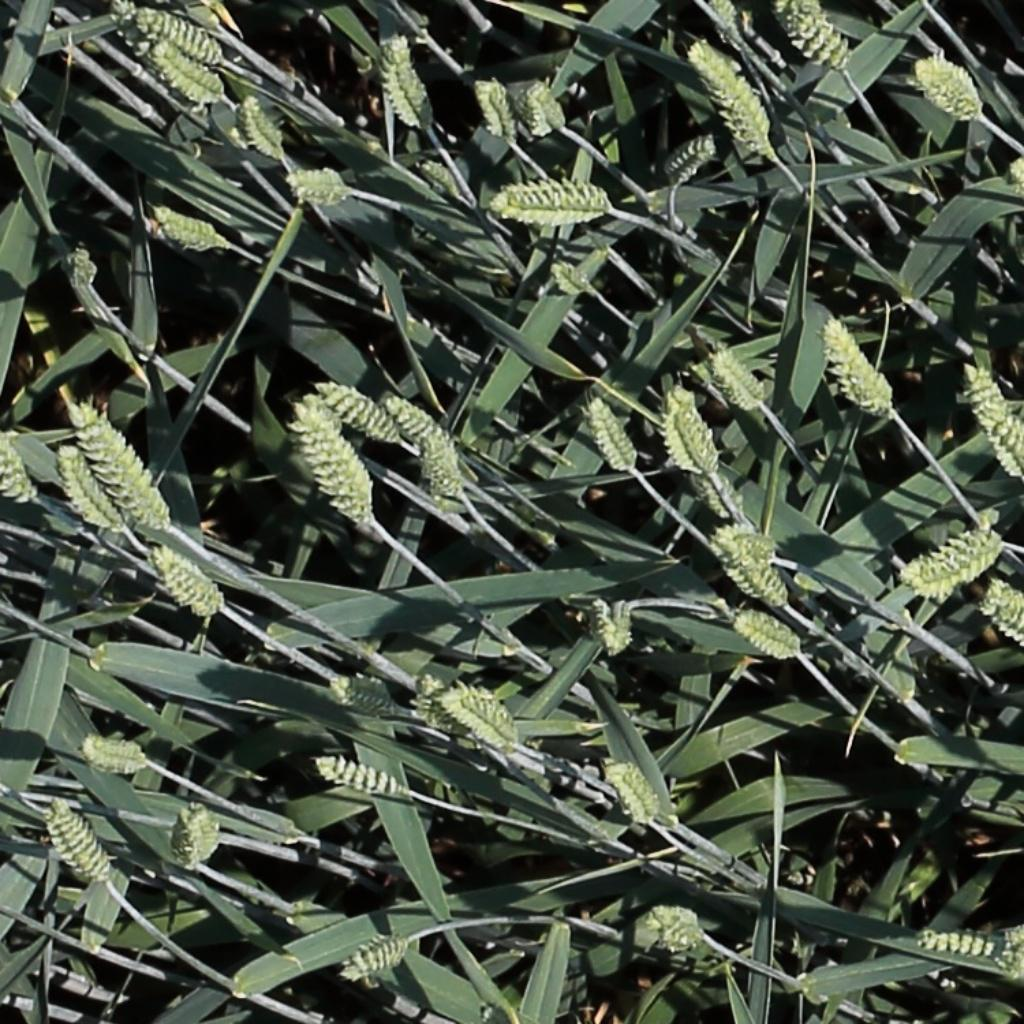0-0: (77, 401, 173, 533), (892, 517, 1012, 611), (290, 395, 372, 525), (690, 39, 776, 152), (903, 44, 998, 133), (439, 684, 540, 762), (824, 314, 898, 415), (711, 527, 794, 612), (490, 180, 615, 236), (55, 439, 124, 539), (963, 359, 1022, 475), (777, 0, 861, 78), (146, 39, 237, 111), (701, 338, 774, 423), (660, 386, 725, 479), (45, 797, 111, 888), (314, 379, 401, 442), (385, 394, 462, 461), (148, 546, 222, 615), (132, 6, 223, 60), (905, 924, 1006, 970), (727, 608, 811, 663), (587, 391, 641, 476), (382, 35, 427, 131), (604, 756, 660, 831), (0, 385, 34, 498), (237, 88, 288, 162), (421, 420, 466, 503), (316, 759, 408, 798), (692, 466, 746, 528), (475, 73, 520, 147), (150, 204, 226, 247), (341, 935, 412, 981), (980, 581, 1024, 655), (110, 0, 165, 57), (527, 73, 572, 136), (663, 133, 719, 182), (595, 596, 634, 664), (174, 800, 206, 877), (647, 907, 705, 947), (187, 800, 215, 873), (333, 682, 393, 715), (81, 742, 150, 770), (420, 154, 464, 193), (709, 0, 749, 42), (550, 259, 595, 294), (69, 238, 96, 293), (1002, 919, 1024, 985)
